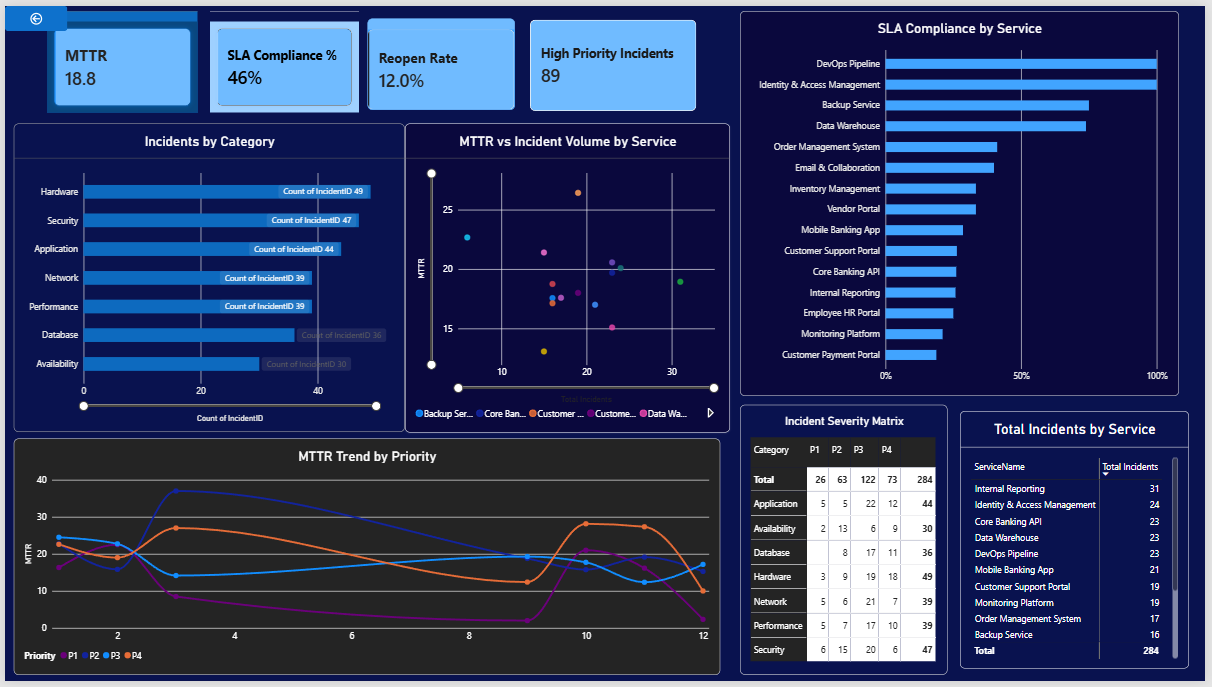

What the dashboard file says about the page in this screenshot:
{"tool":"powerbi","page":{"name":"Incident & SLA Management","canvas":[1920,1080],"ordinal":2},"visuals":[{"type":"cardVisual","fields":{"Data":["it_infrastructure_health incidents.MTTR"]},"box":[68,8,240,162],"z":0},{"type":"cardVisual","fields":{"Data":["it_infrastructure_health sla_definitions.SLA Compliance %"]},"box":[328,8,238,162],"z":1000},{"type":"tableEx","title":"Total Incidents by Service","fields":{"Values":["it_infrastructure_health it_services.ServiceName","it_infrastructure_health incidents.Total Incidents"]},"box":[1528,648,366,412],"z":2000},{"type":"actionButton","box":[0,0,100,40],"z":3000},{"type":"clusteredBarChart","title":"Incidents by Category","fields":{"Category":["it_infrastructure_health incidents.Category"],"Y":["CountNonNull(it_infrastructure_health incidents.IncidentID)"]},"box":[14.7,187.7,625.8,493.3],"z":4000},{"type":"lineChart","title":"MTTR Trend by Priority","fields":{"Category":["it_infrastructure_health incidents.IncidentMonth"],"Y":["it_infrastructure_health incidents.MTTR"],"Series":["it_infrastructure_health incidents.Priority"]},"box":[14,692,1130,378],"z":5000},{"type":"clusteredBarChart","title":"SLA Compliance by Service","fields":{"Category":["it_infrastructure_health it_services.ServiceName"],"Y":["it_infrastructure_health sla_definitions.SLA Compliance %"]},"box":[1176,8,702,616],"z":6000},{"type":"scatterChart","title":"MTTR vs Incident Volume by Service","fields":{"X":["it_infrastructure_health incidents.Total Incidents"],"Y":["it_infrastructure_health incidents.MTTR"],"Series":["it_infrastructure_health it_services.ServiceName"]},"box":[640,188,520,494],"z":7000},{"type":"pivotTable","title":"Incident Severity Matrix","fields":{"Rows":["it_infrastructure_health incidents.Category"],"Columns":["it_infrastructure_health incidents.Priority"],"Values":["CountNonNull(it_infrastructure_health incidents.IncidentID)"]},"box":[1176,638,332,432],"z":8000},{"type":"cardVisual","fields":{"Data":["it_infrastructure_health business_impact.Reopen Rate"]},"box":[580,20,236,146],"z":9000},{"type":"cardVisual","fields":{"Data":["it_infrastructure_health incidents.High Priority Incidents"]},"box":[840,22,266,146],"z":10000}]}

Visuals, with their boxes in screenshot pixels (x1, y1, x2, y2), scaled from the page's 1920x1080 canvas onto the 1212x687 screenshot:
cardVisual - it_infrastructure_health incidents.MTTR: (43, 5, 194, 108)
cardVisual - it_infrastructure_health sla_definitions.SLA Compliance %: (207, 5, 357, 108)
"Total Incidents by Service" tableEx: (965, 412, 1196, 674)
actionButton: (0, 0, 63, 25)
"Incidents by Category" clusteredBarChart: (9, 119, 404, 433)
"MTTR Trend by Priority" lineChart: (9, 440, 722, 681)
"SLA Compliance by Service" clusteredBarChart: (742, 5, 1185, 397)
"MTTR vs Incident Volume by Service" scatterChart: (404, 120, 732, 434)
"Incident Severity Matrix" pivotTable: (742, 406, 952, 681)
cardVisual - it_infrastructure_health business_impact.Reopen Rate: (366, 13, 515, 106)
cardVisual - it_infrastructure_health incidents.High Priority Incidents: (530, 14, 698, 107)
